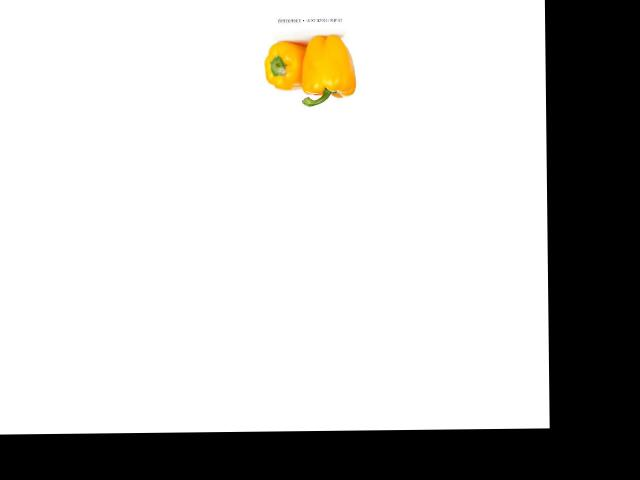bell_pepper: (263, 38, 309, 94)
